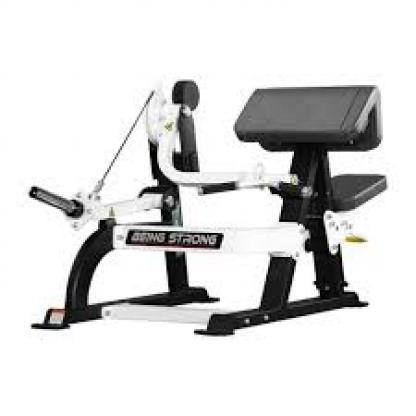arm curl machine: (27, 78, 387, 338)
